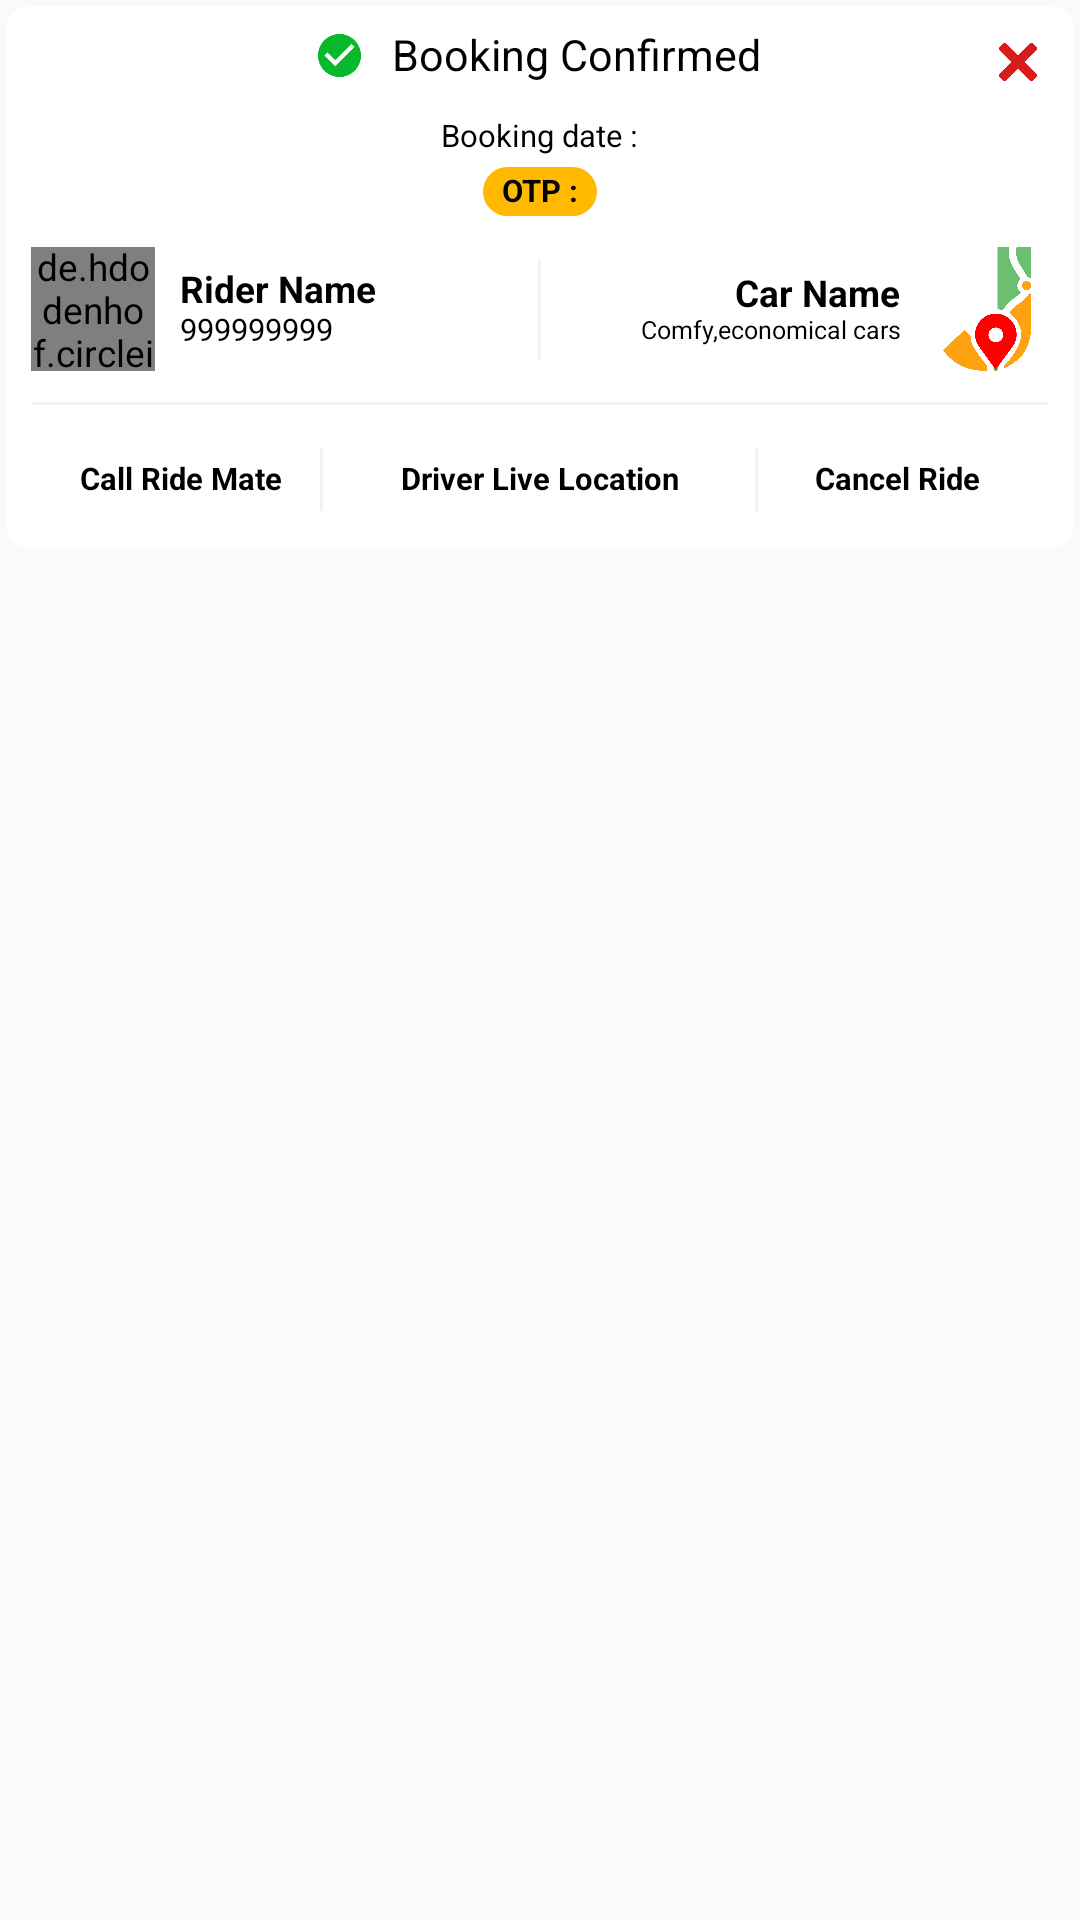

Named icons in this screenshot (1080 × 1920) and their centers, (x,y):
close: (1018,62)
